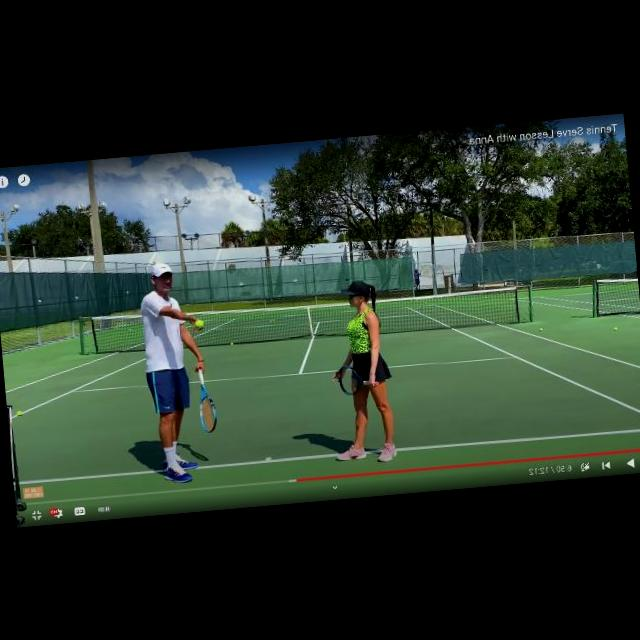Tennis Ball: (17, 410, 22, 416), (540, 328, 542, 331), (614, 328, 617, 330), (230, 342, 232, 344)
